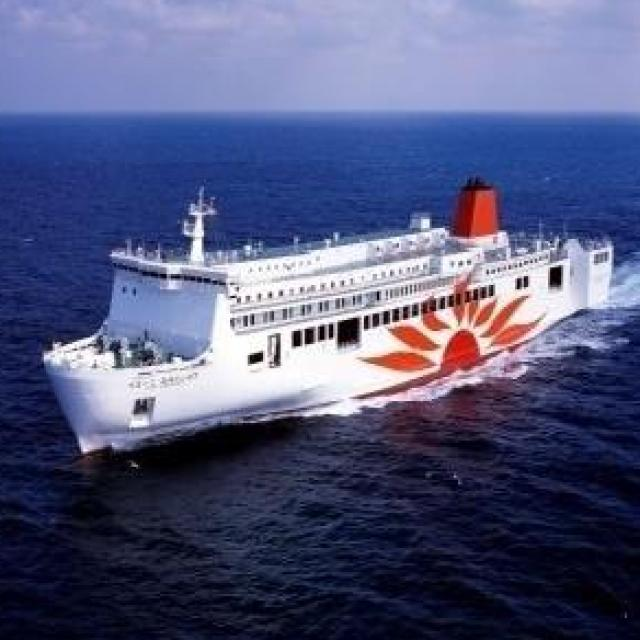cargoship: (44, 170, 620, 455)
